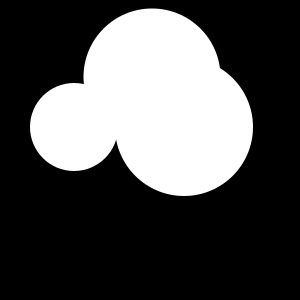rectangle: (115, 58, 253, 196), (84, 8, 221, 146), (30, 83, 118, 171), (127, 17, 197, 87)
